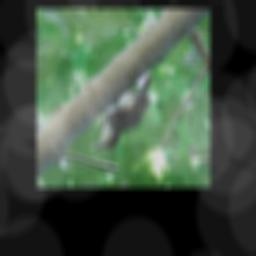Cuckoo: (91, 73, 154, 151)
